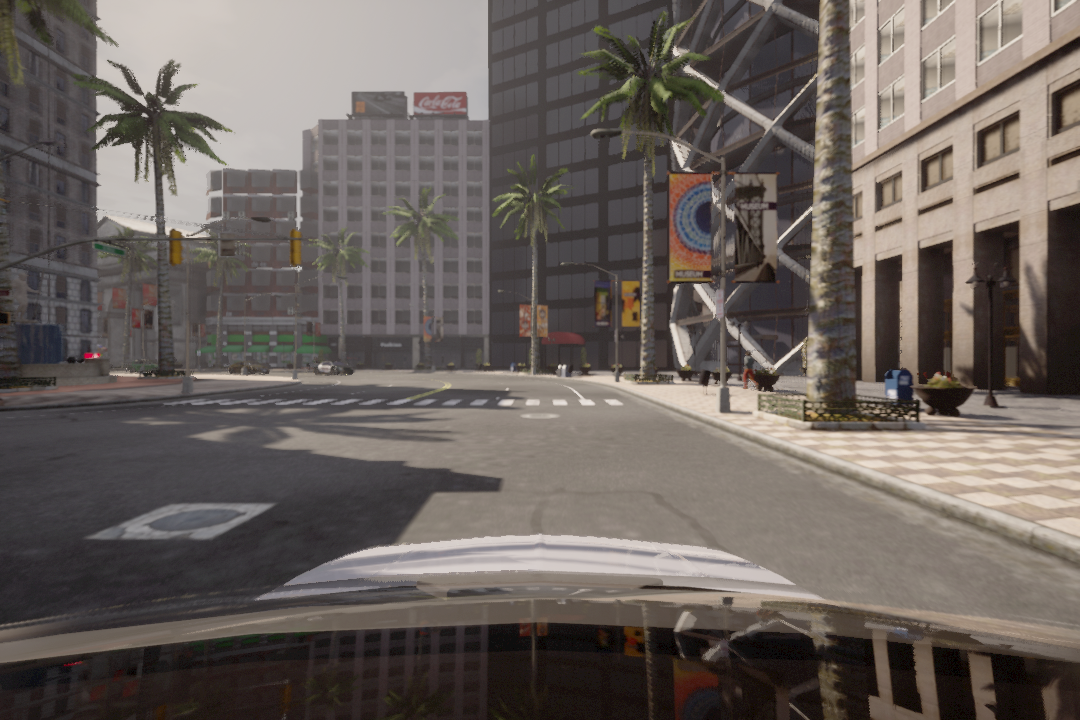walkside: (164, 394, 631, 410)
